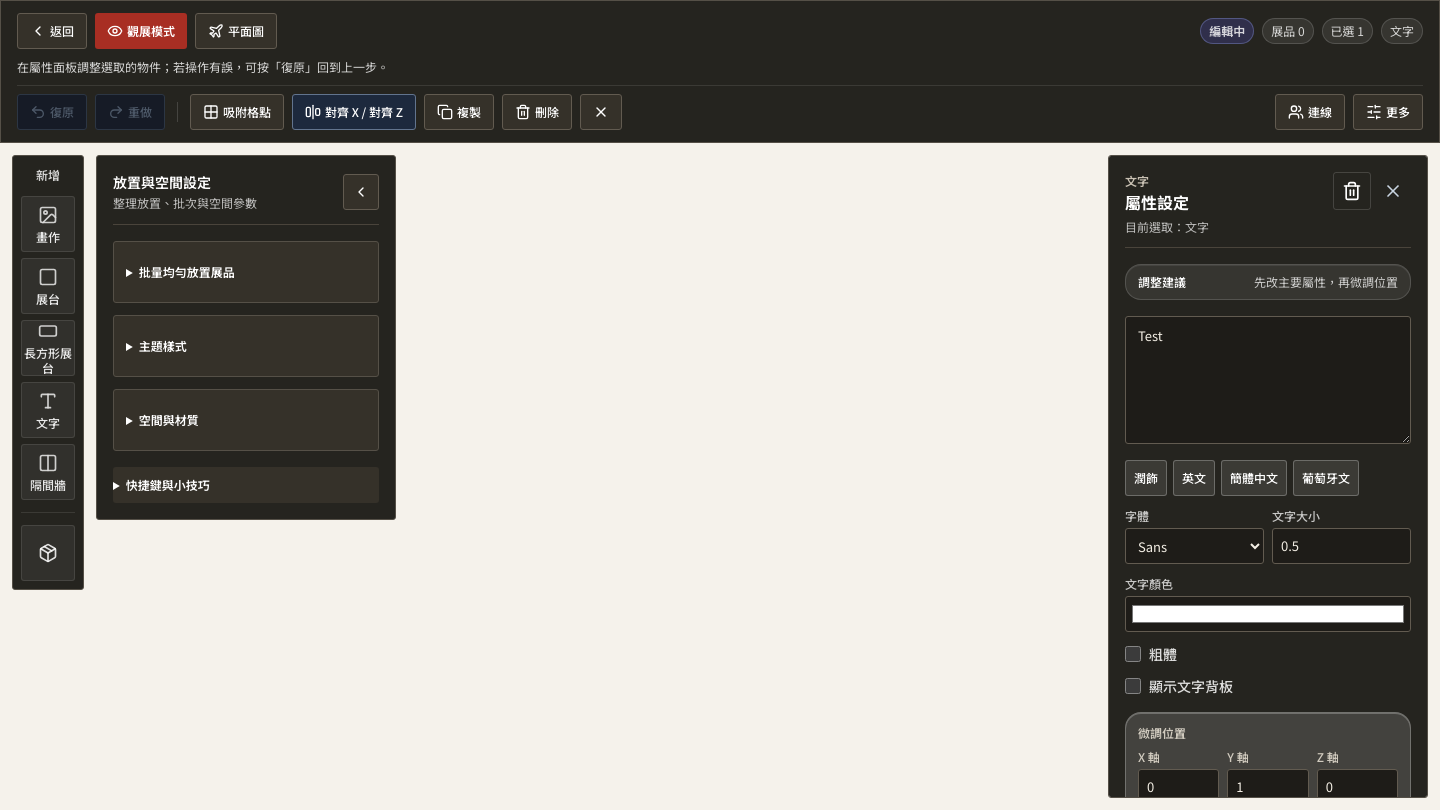
Test case: EditUI AI builder › dismisses an auxiliary panel with Escape and returns keyboard focus without clearing selection
The width and height of the screenshot is (1440, 810).
Step 1. Click the button "更多" → (1388,112), box left=1353, top=94, right=1423, bottom=130
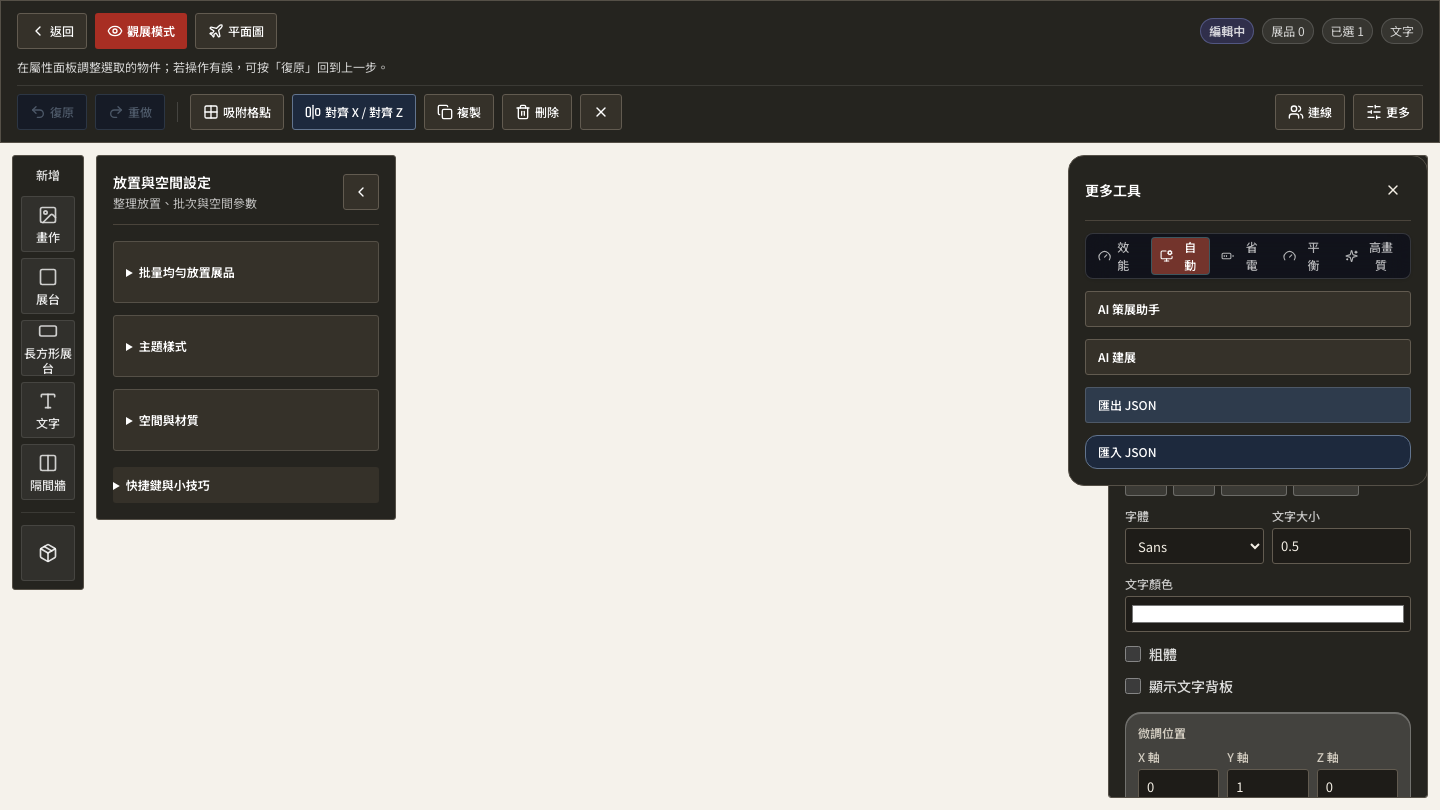
Step 2. Press Escape
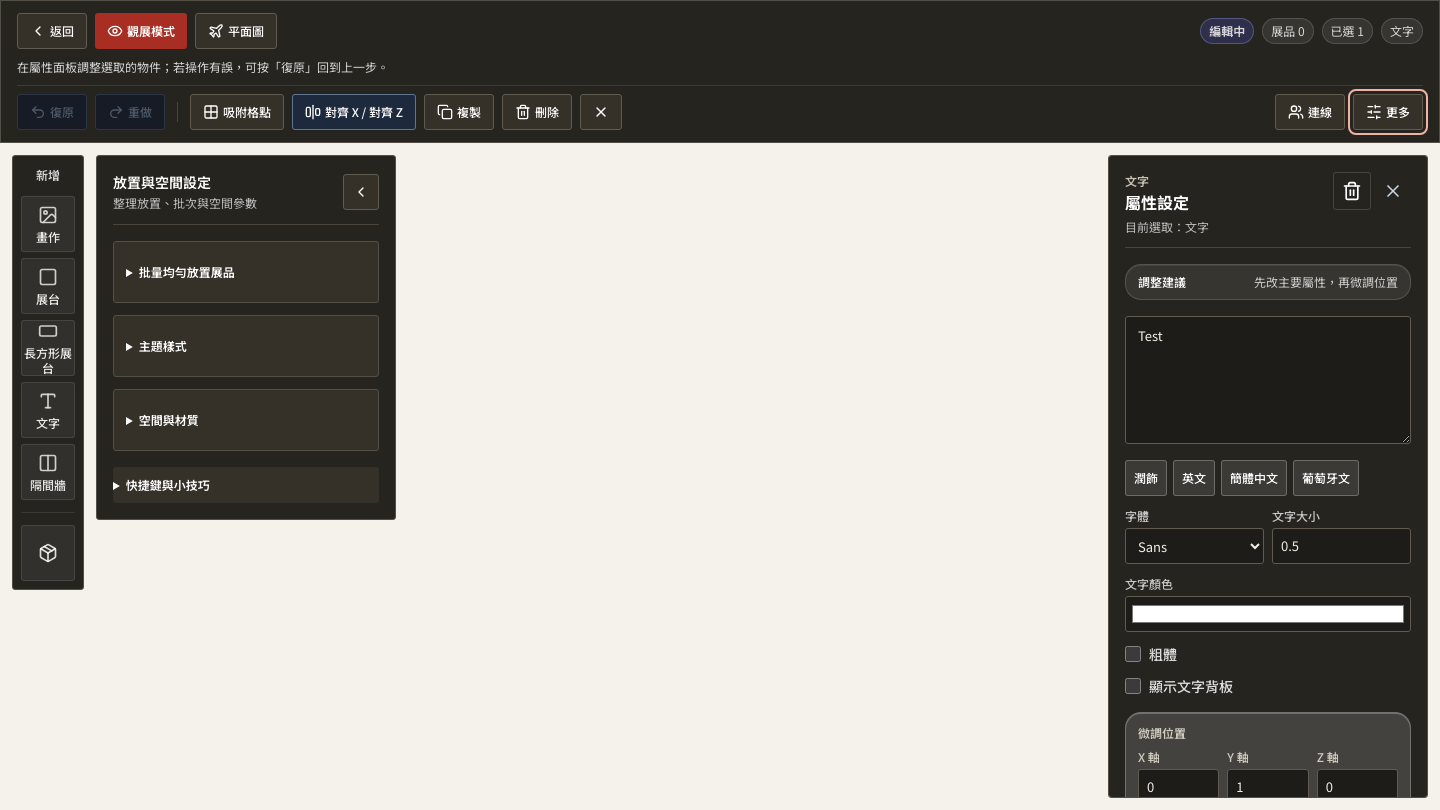
Expected: the element with id "editor-more-panel" is gone
